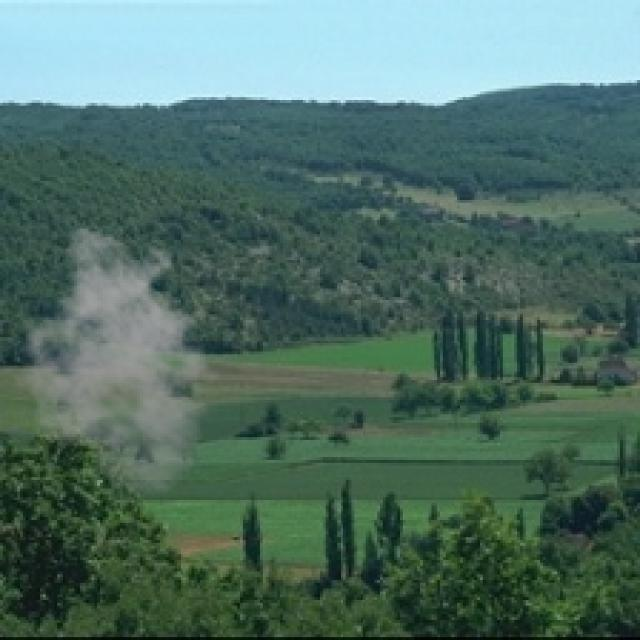Smoke: (12, 226, 232, 497)
